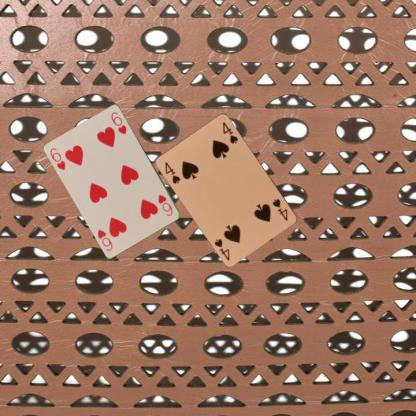4s: (162, 159, 182, 185), (270, 196, 289, 222)
6h: (47, 145, 67, 172), (155, 192, 174, 217)
